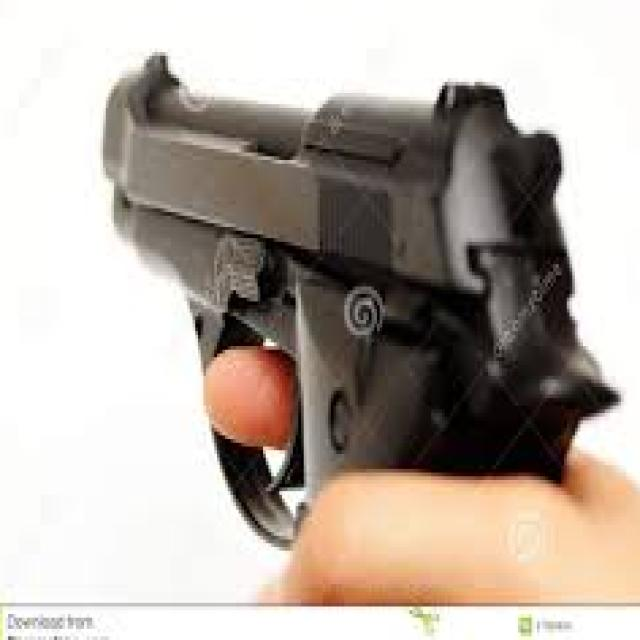gun: (92, 35, 595, 595)
